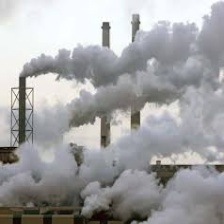smoke: (17, 21, 221, 224)
